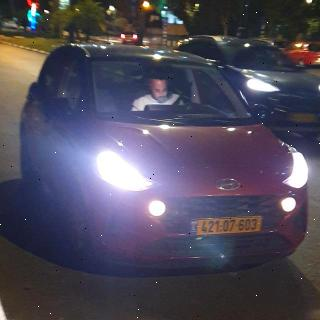LicensePlate: (196, 216, 263, 235)
